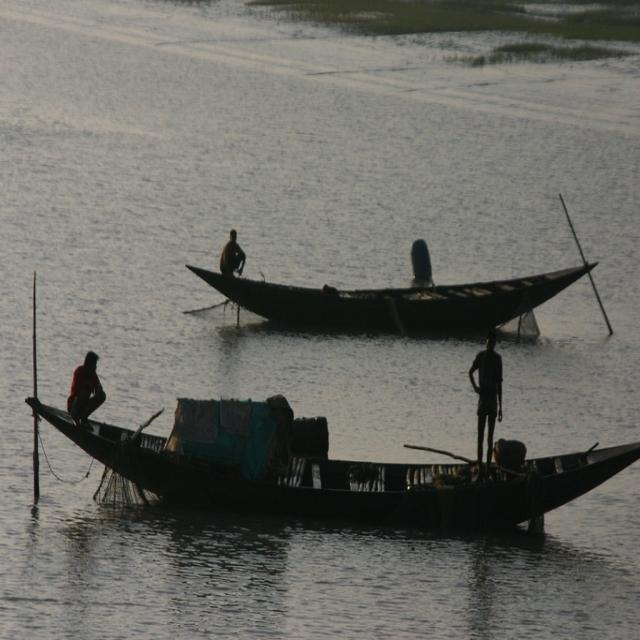boat: (0, 372, 640, 528), (175, 244, 605, 345)
